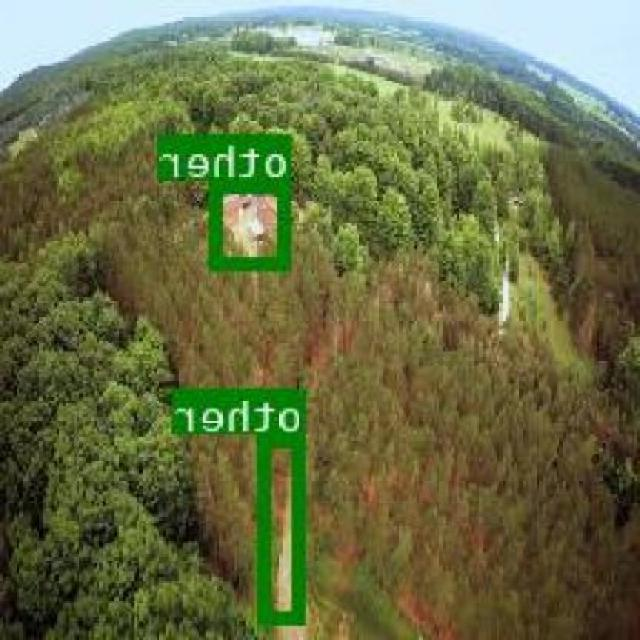other: (262, 433, 307, 622), (212, 177, 292, 268)
